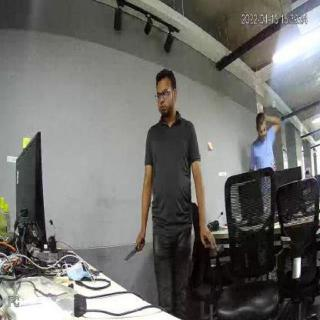knife: (125, 241, 143, 265)
